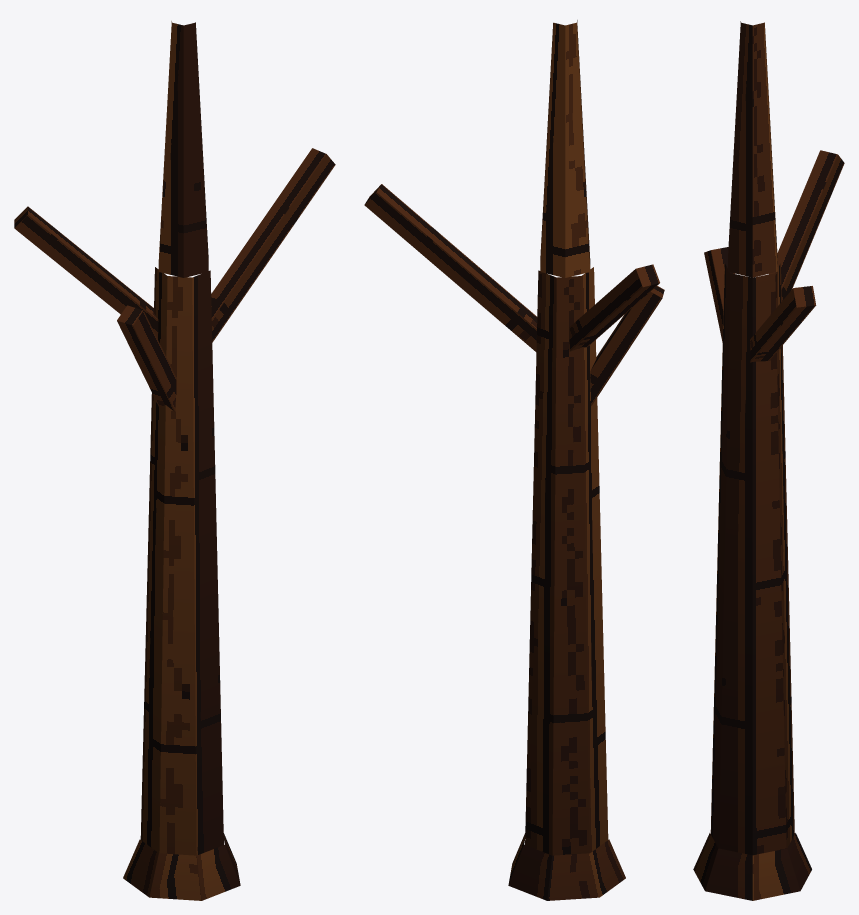
Rendered from birch_3_trunk.glb.
3 renders of one model, left to right at view 1: azimuth 30°, elevation 25°; view 2: azimuth 150°, elevation 25°; view 3: azimuth 270°, elevation 25°, orthographic.
Parts seen in each view (by area): view 1: birch_3_trunk; view 2: birch_3_trunk; view 3: birch_3_trunk.
Part boxes in pixels (x1,y1,x2,y2): birch_3_trunk: (14, 21, 335, 900); birch_3_trunk: (364, 20, 664, 900); birch_3_trunk: (693, 21, 844, 900).
Bounding box in the file's own units: 2.08 × 5.57 × 0.8931.
1 material, 1 textured.
